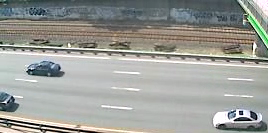car: (209, 106, 264, 132), (22, 59, 67, 79)
